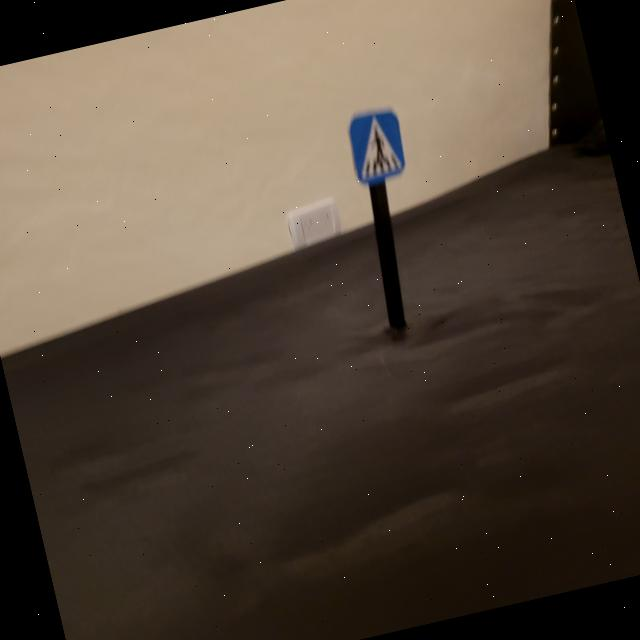crosswalk: (344, 105, 410, 183)
